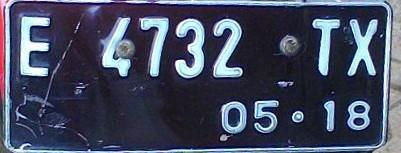2: (206, 16, 250, 80)
3: (171, 14, 209, 83)
4: (92, 16, 142, 78)
7: (136, 15, 173, 82)
E: (17, 17, 66, 77)
T: (306, 16, 346, 78)
X: (344, 16, 382, 78)
